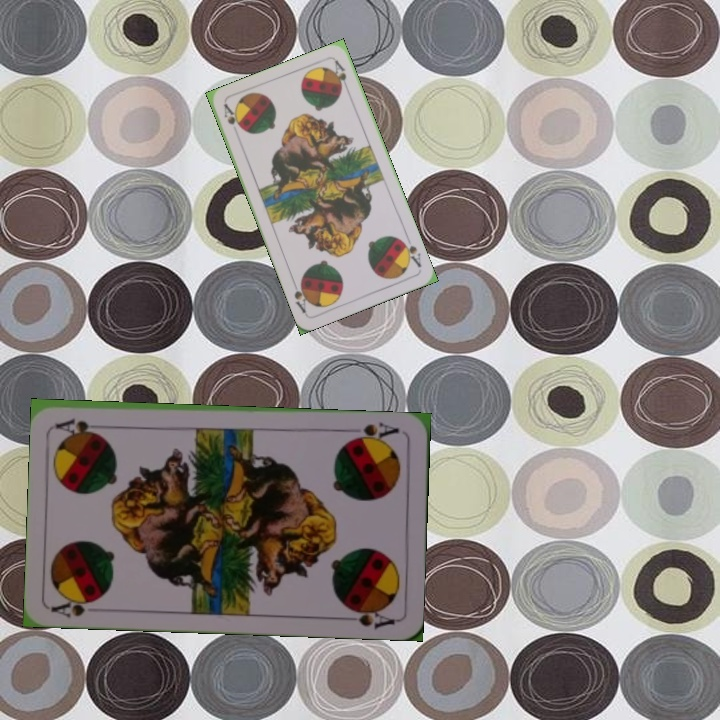SA: (48, 592, 106, 620), (344, 418, 402, 445), (396, 235, 424, 270), (219, 100, 244, 132)
